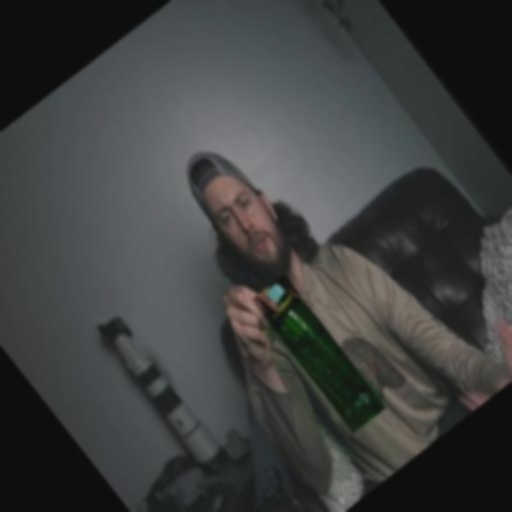bottle: (252, 273, 388, 431)
